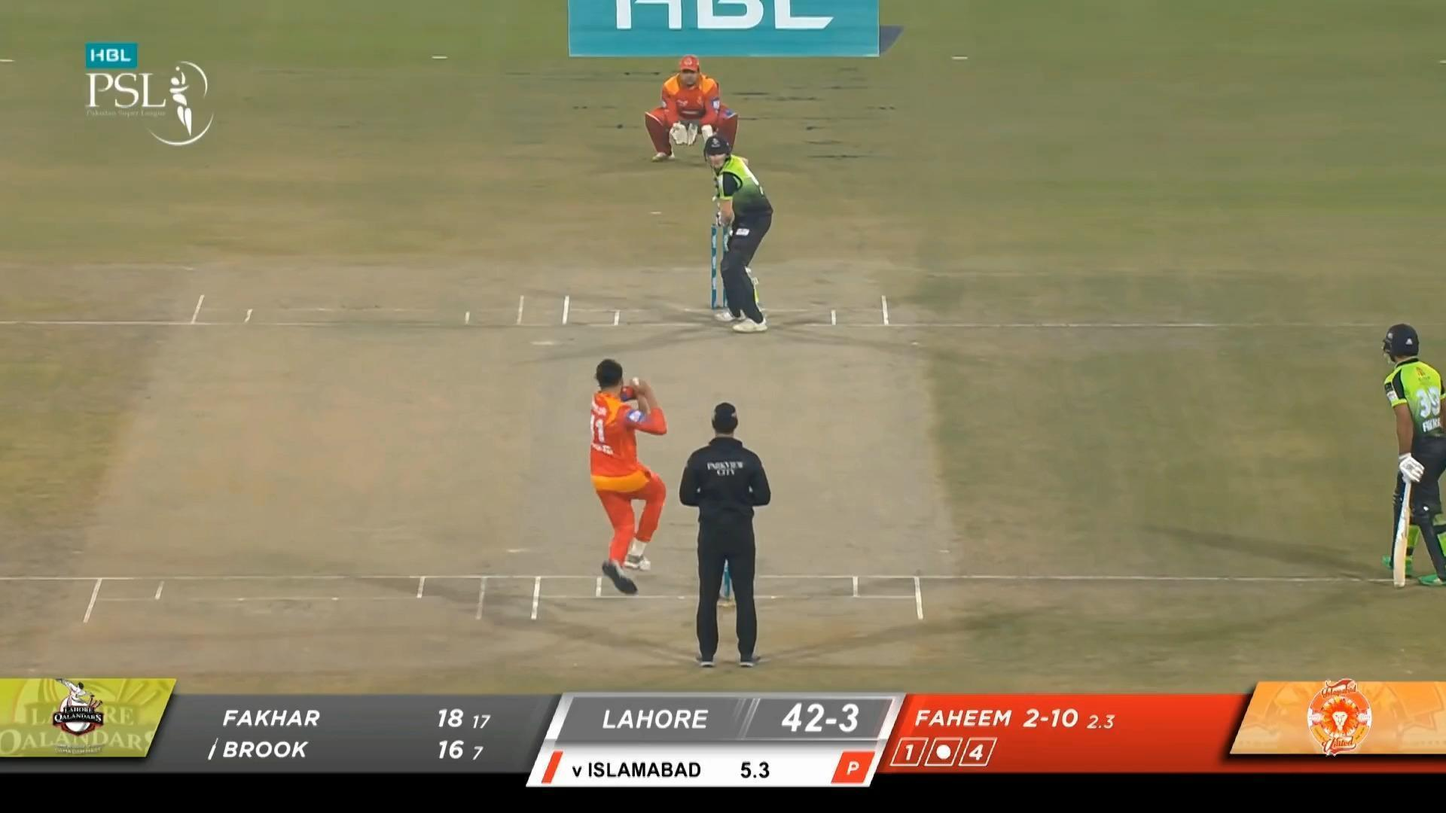BM 1: (700, 125, 774, 333)
BO: (587, 357, 668, 595)
